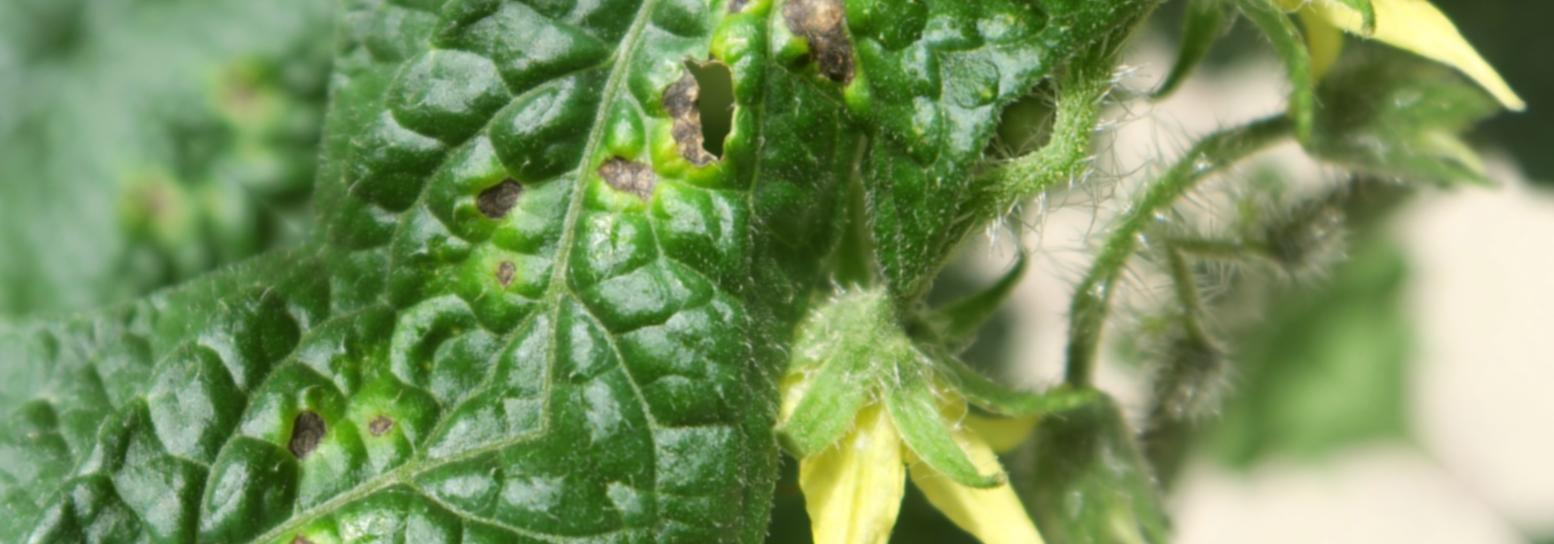Tomato leaf bacterial spot: (143, 0, 1209, 544)
